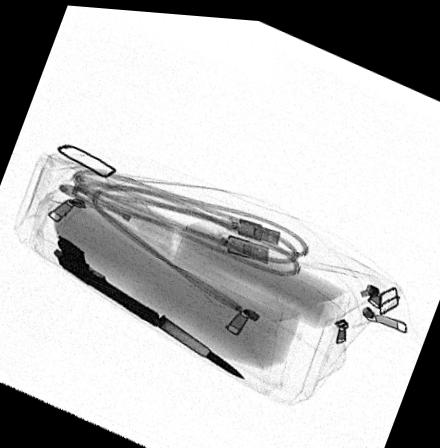Bullet: (157, 312, 247, 375)
Gun: (57, 234, 160, 322)
